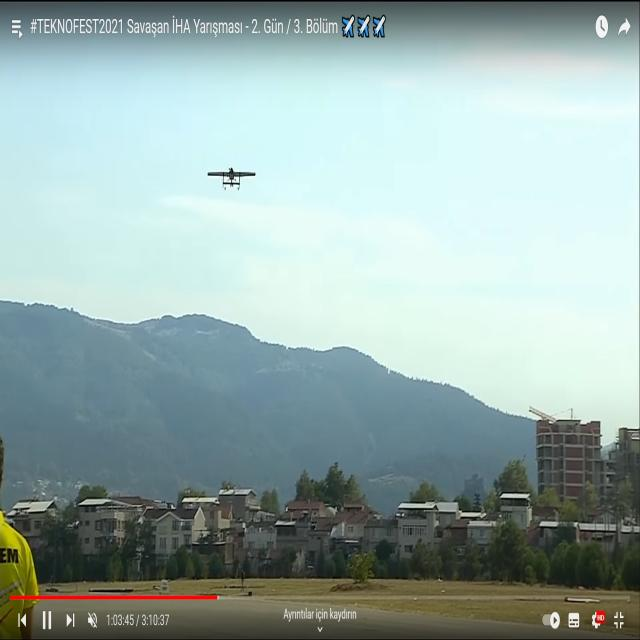iha: (207, 169, 255, 190)
